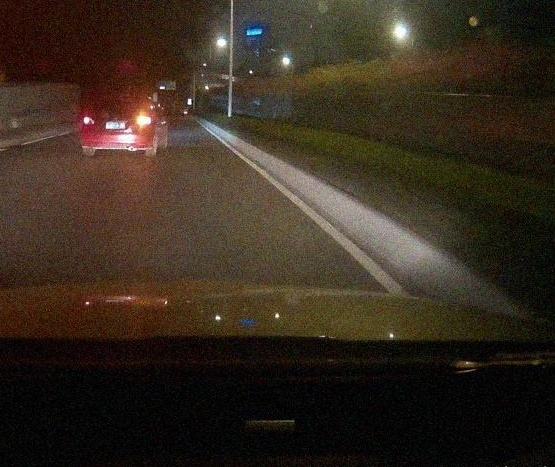L_light: (83, 116, 95, 125)
R_light: (136, 115, 151, 125)
T_light: (113, 99, 125, 103)
night-right: (80, 95, 152, 157)
